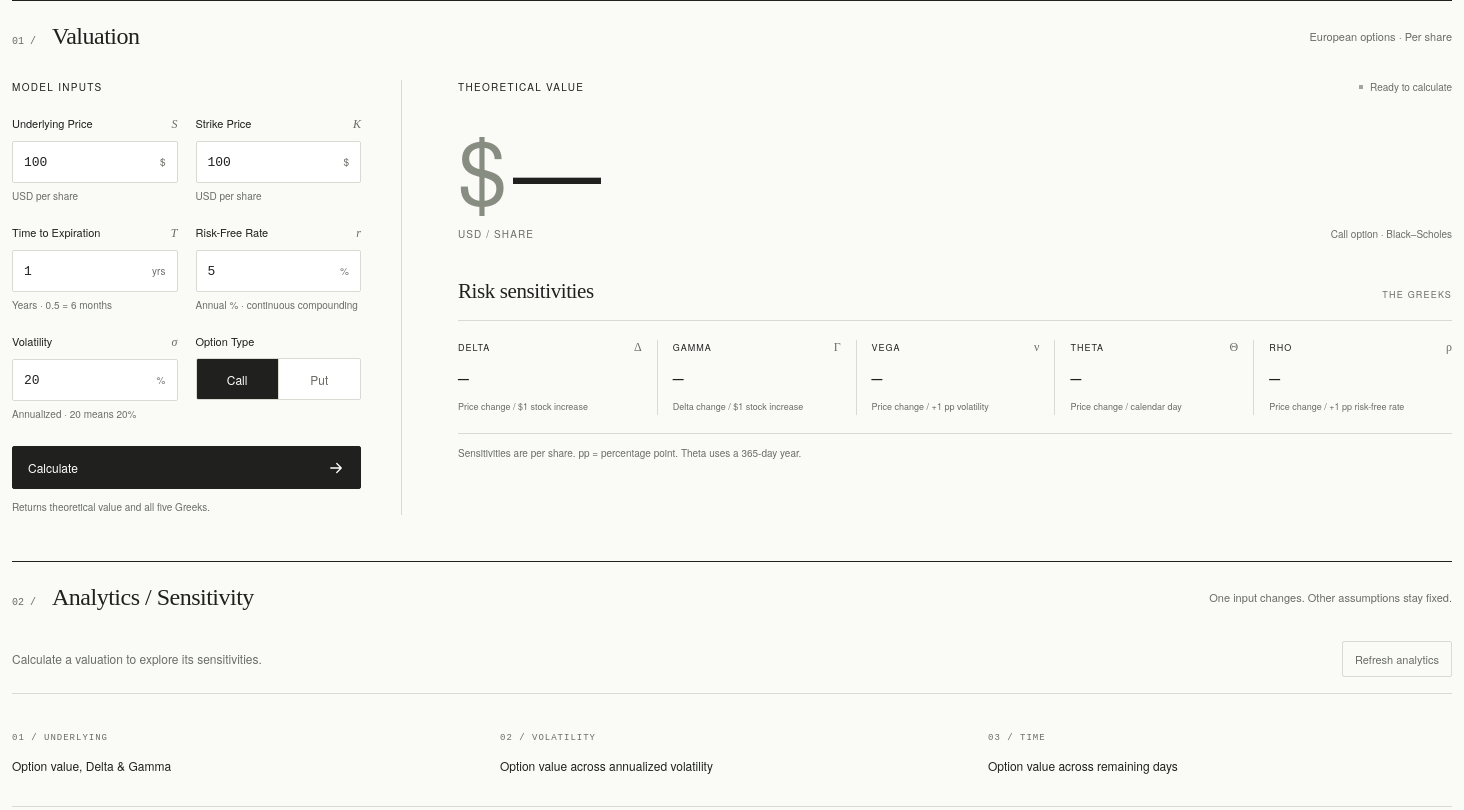
Scenario: sensitivity form integration › displays connection failures as an actionable error
Step 1. Click the button "Calculate" → (53, 468), box [12,446,361,489]
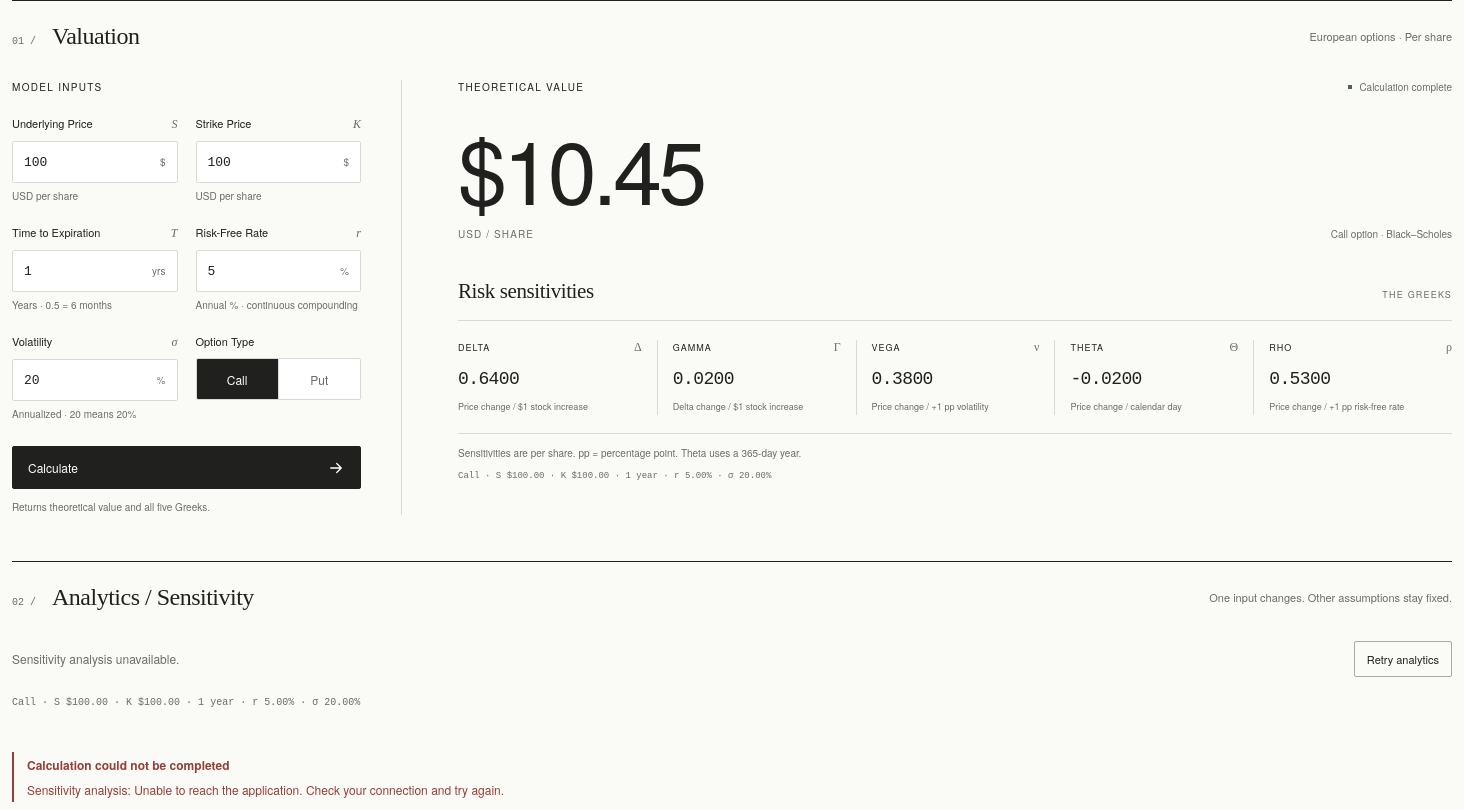
Check: the message that starts with "Calculation could not be completed" shows "Sensitivity analysis: Unable to reach the application. Check your connection and try again.", box [27,781,504,798]
